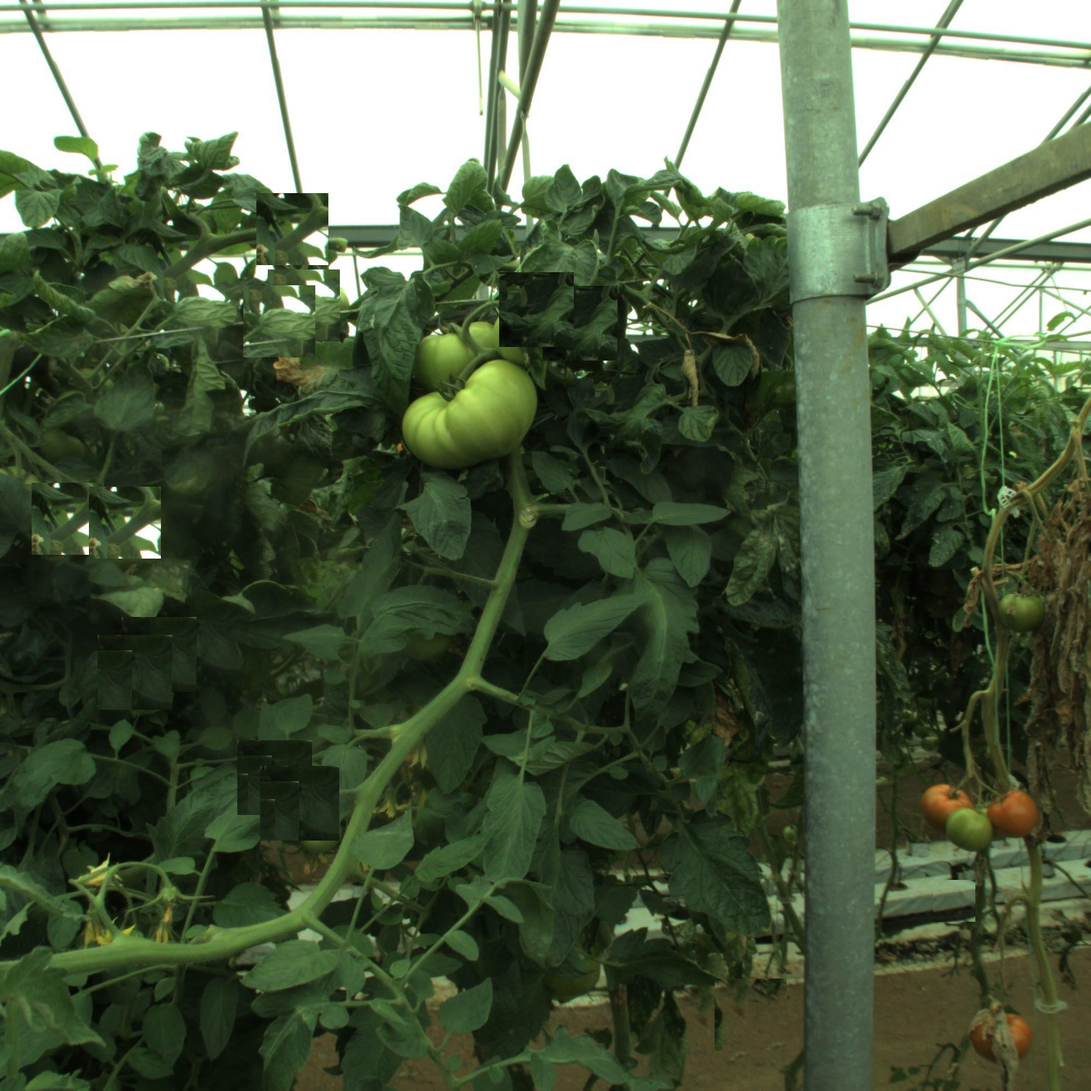fully-ripe: (976, 1009, 1033, 1065), (922, 783, 970, 831), (989, 789, 1037, 837)
unripe: (403, 346, 535, 478), (418, 313, 502, 397), (998, 585, 1046, 633), (948, 804, 996, 852)
